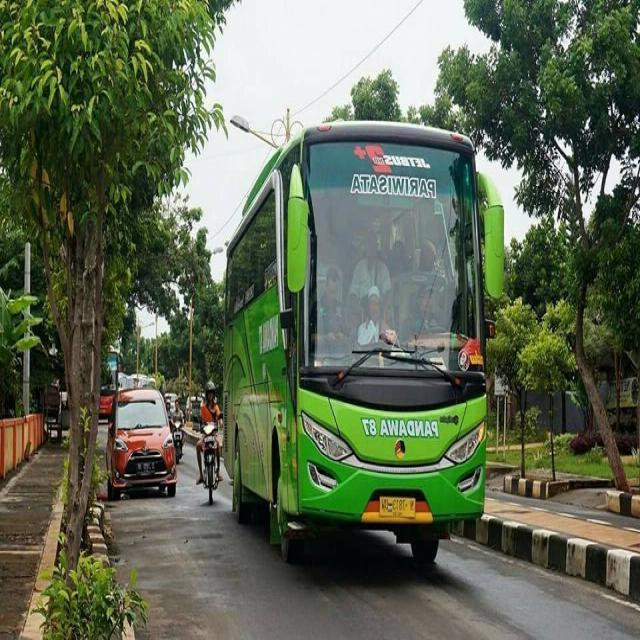Bus: (211, 103, 529, 581)
Car: (96, 380, 188, 517)
Motorbike: (184, 390, 245, 515)
